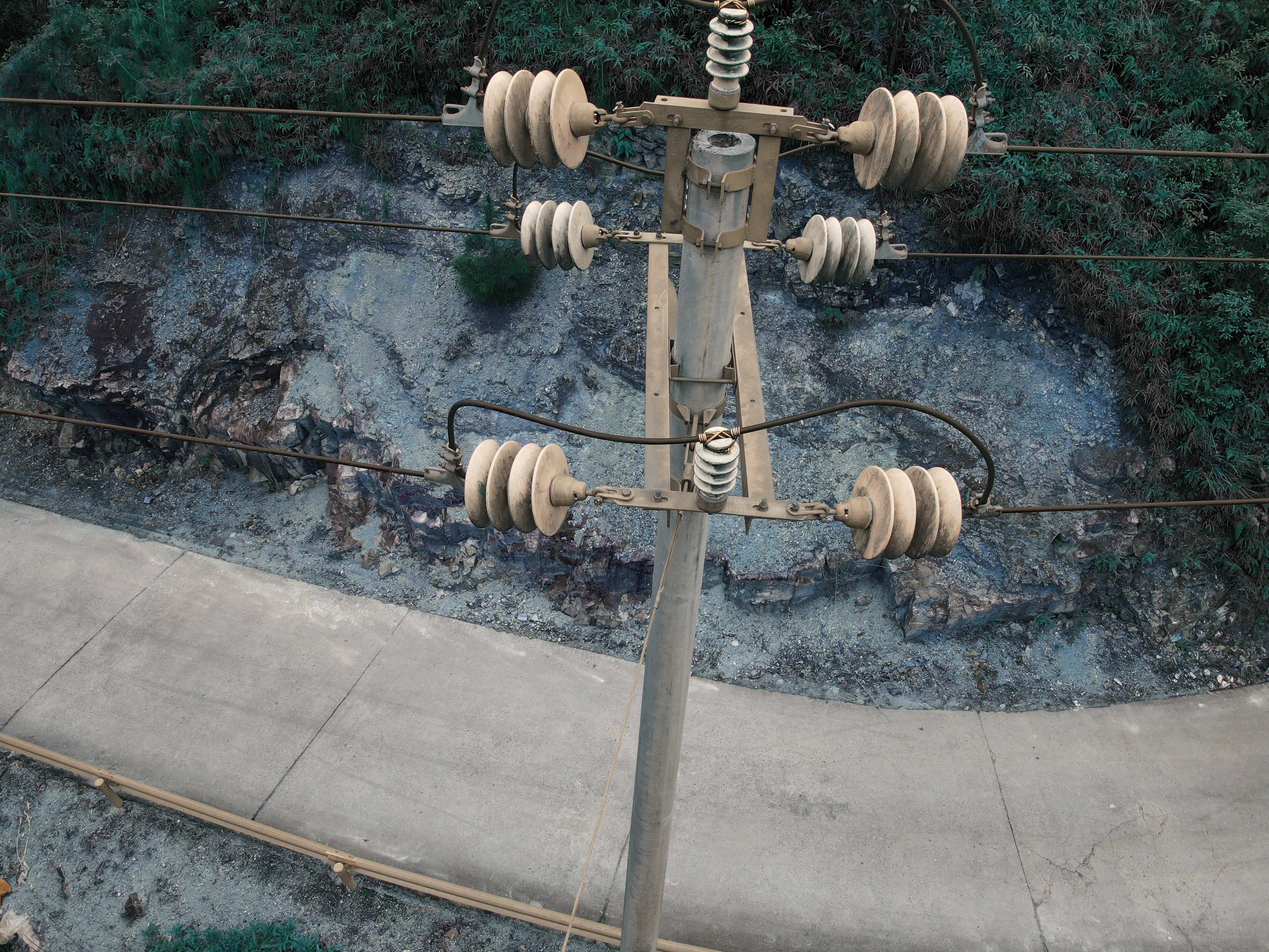severe_soiling_no_discharge_whole: (476, 60, 609, 173), (841, 85, 973, 195), (457, 435, 597, 537), (839, 463, 967, 564), (788, 212, 882, 293), (517, 197, 608, 274), (701, 4, 756, 108), (688, 422, 744, 517)
